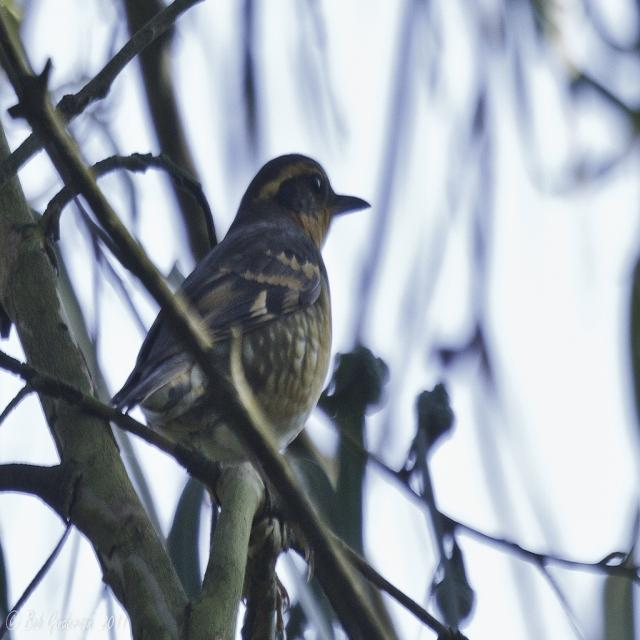bird: (108, 135, 371, 529)
